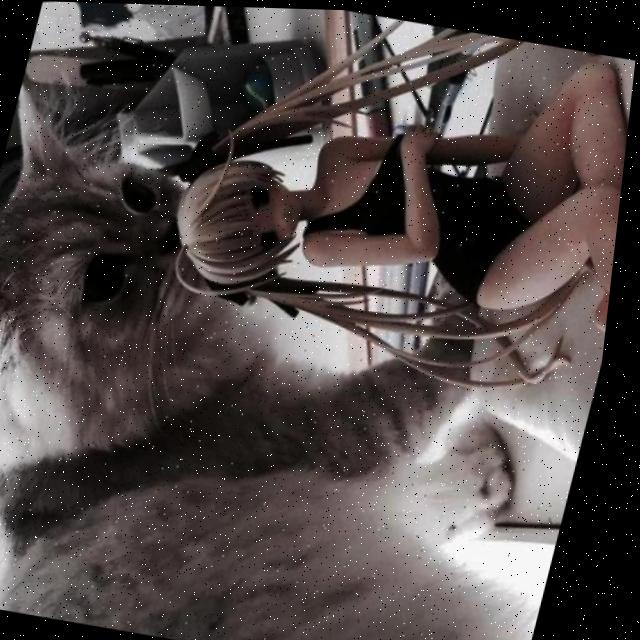Cats: (0, 68, 348, 640)
